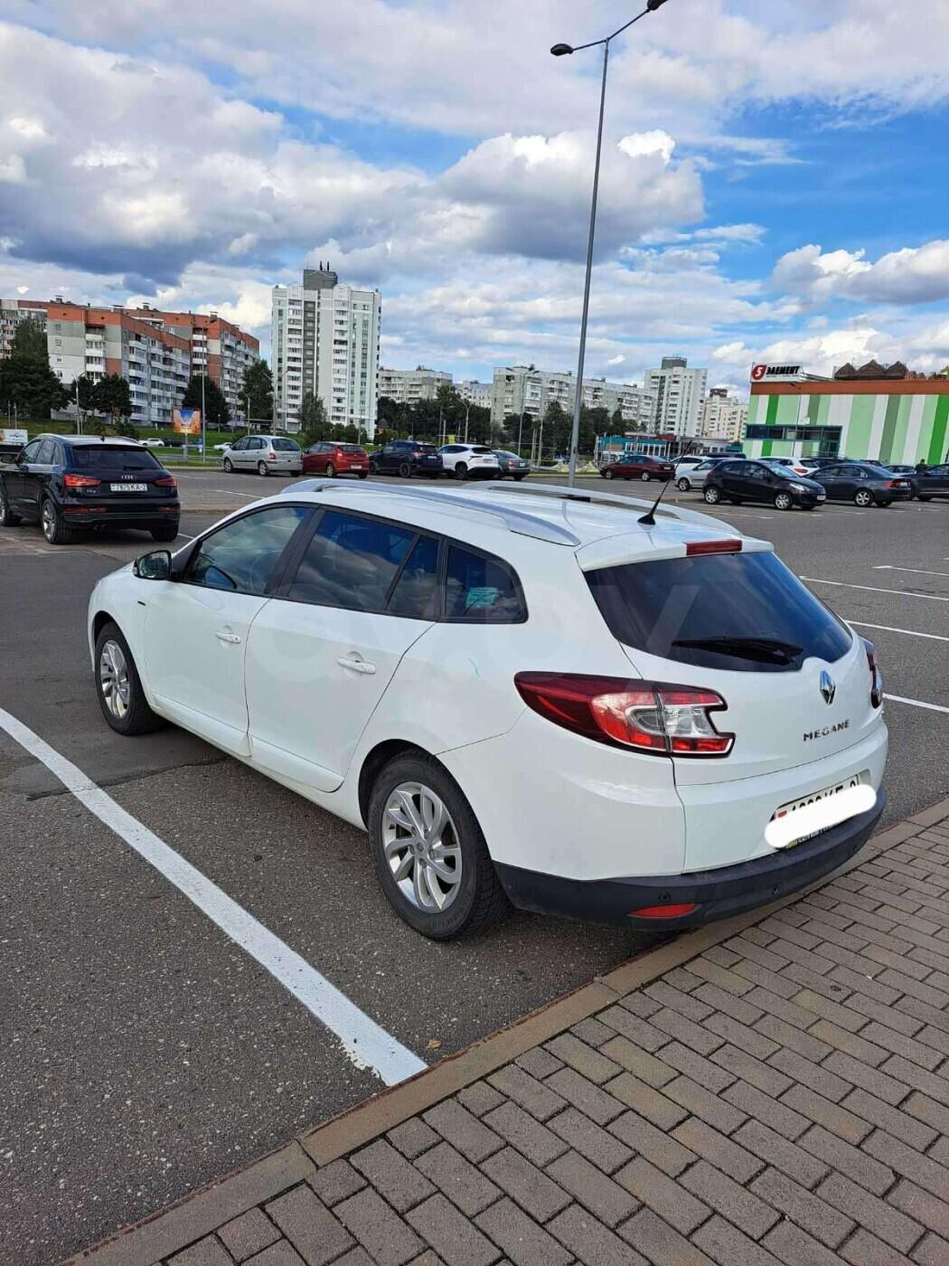Megane_2014-2016: (81, 465, 913, 950)
